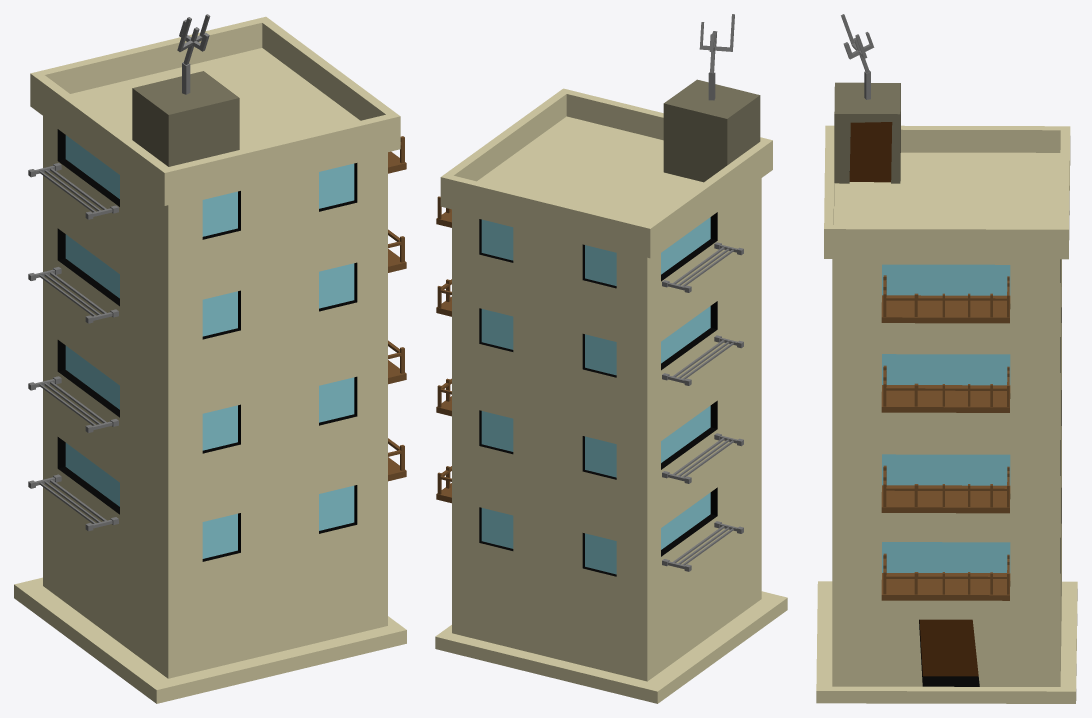
3 renders of one model, left to right at view 1: azimuth 30°, elevation 25°; view 2: azimuth 150°, elevation 25°; view 3: azimuth 270°, elevation 25°, orthographic. The views are drawn at different scales.
Visible parts, largest first — view 1: Circle.004; view 2: Circle.004; view 3: Circle.004.
Boxes of the visible parts, x1,y1,x2,y2 form: Circle.004: (14, 14, 406, 703); Circle.004: (435, 14, 787, 703); Circle.004: (816, 14, 1077, 703).
Bounding box in the file's own units: 519 × 1115 × 440.
